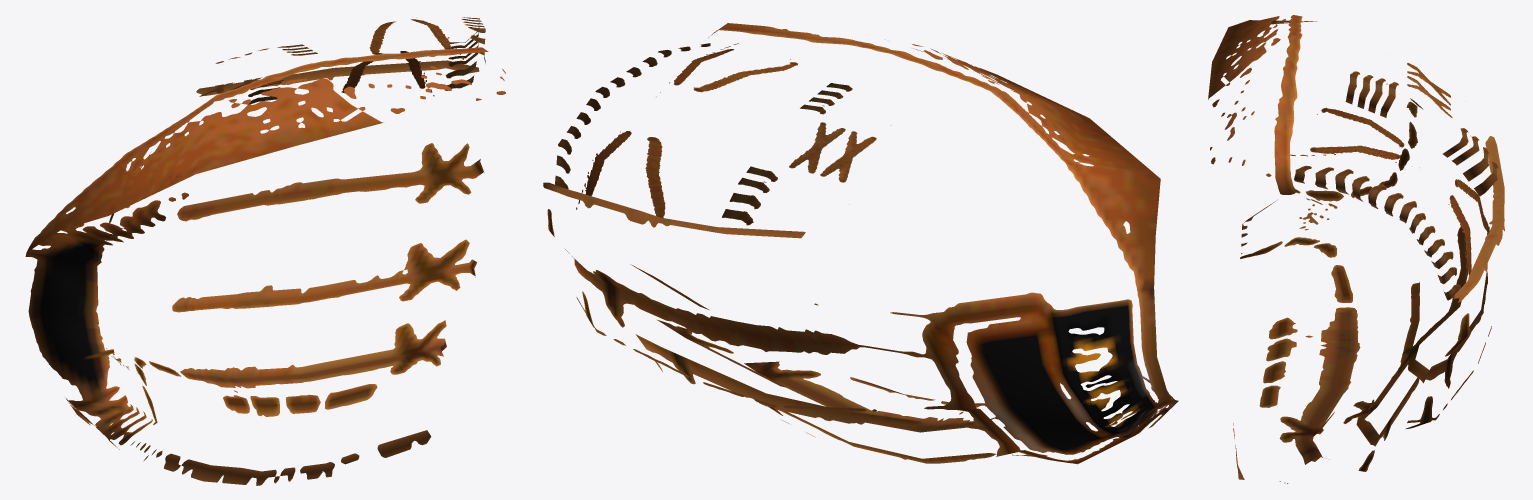
File: bbl_Glove__bbl_Glove_l.glb
3 renders of one model, left to right at view 1: azimuth 30°, elevation 25°; view 2: azimuth 150°, elevation 25°; view 3: azimuth 270°, elevation 25°, orthographic. The views are drawn at different scales.
Parts seen in each view (by area): view 1: polygon0; view 2: polygon0; view 3: polygon0.
Part boxes in pixels (<box>): polygon0: <box>25,17,505,485</box>; polygon0: <box>543,23,1178,464</box>; polygon0: <box>1208,15,1504,483</box>.
Bounding box in the file's own units: 4.34 × 3.04 × 2.18.
1 material, 1 textured.
